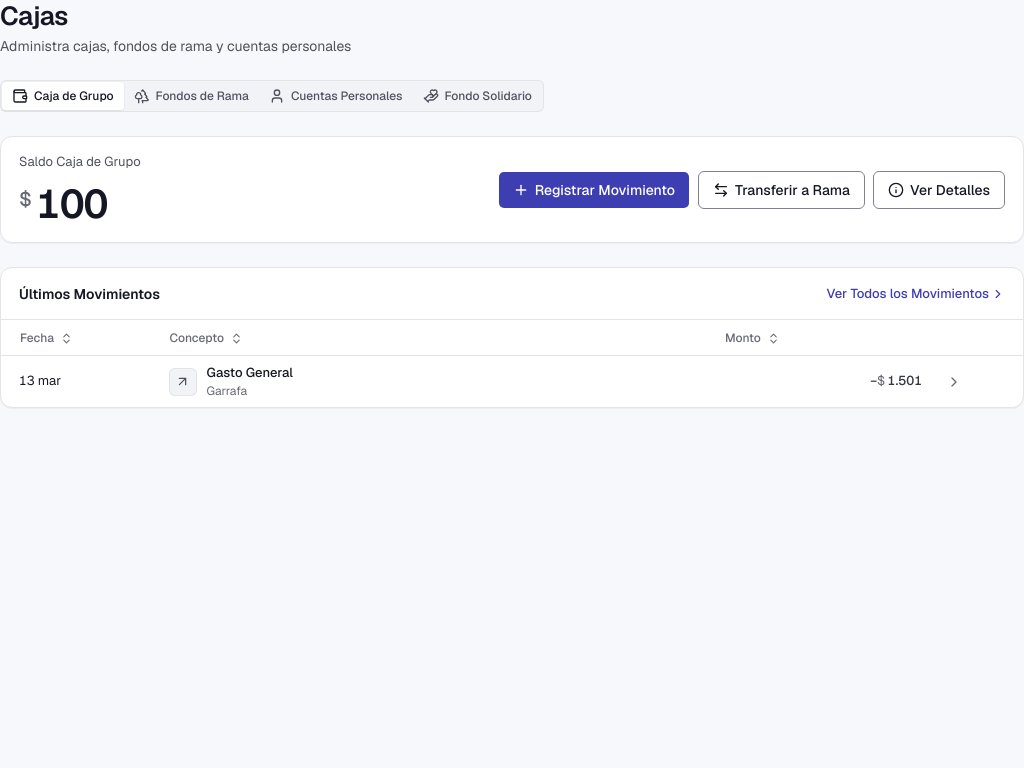
Test case: <CajasView> caja de grupo › "Ver Detalles" abre el drawer con filtro y vacío por tipo
The image size is (1024, 768).
Click the button "Ver Detalles".
click(939, 190)  # box [873,171,1005,209]
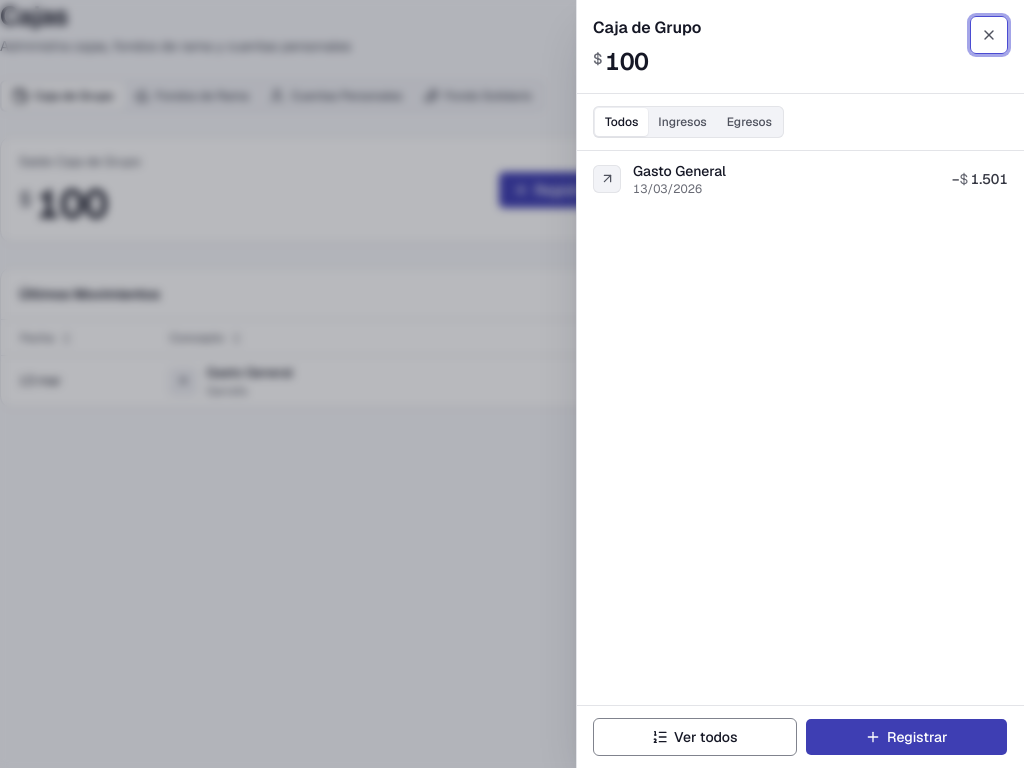
Result: the heading "Caja de Grupo" is shown at [593,16,702,40]
Click the button "Ingresos".
click(683, 122)  # box [648,108,717,136]
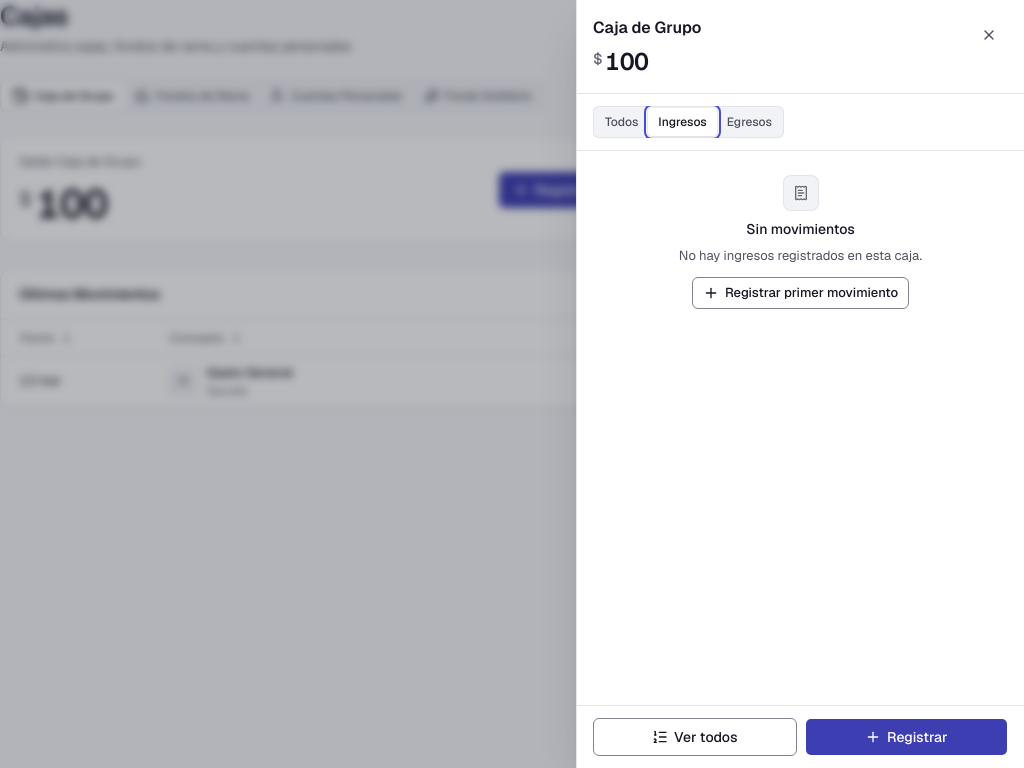
Result: the text "No hay ingresos registrados en esta caja." is shown at [679,247,922,265]
Click the button named "Cerrar drawer".
click(989, 35)  # box [970,16,1008,54]
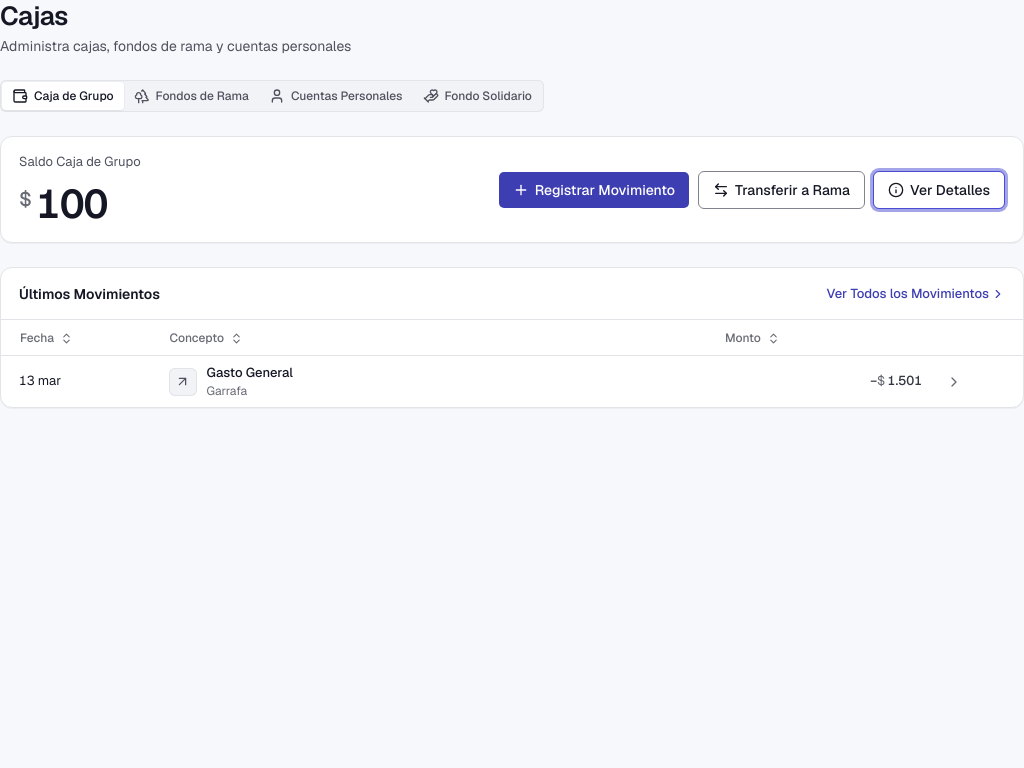
Result: the dialog is gone
